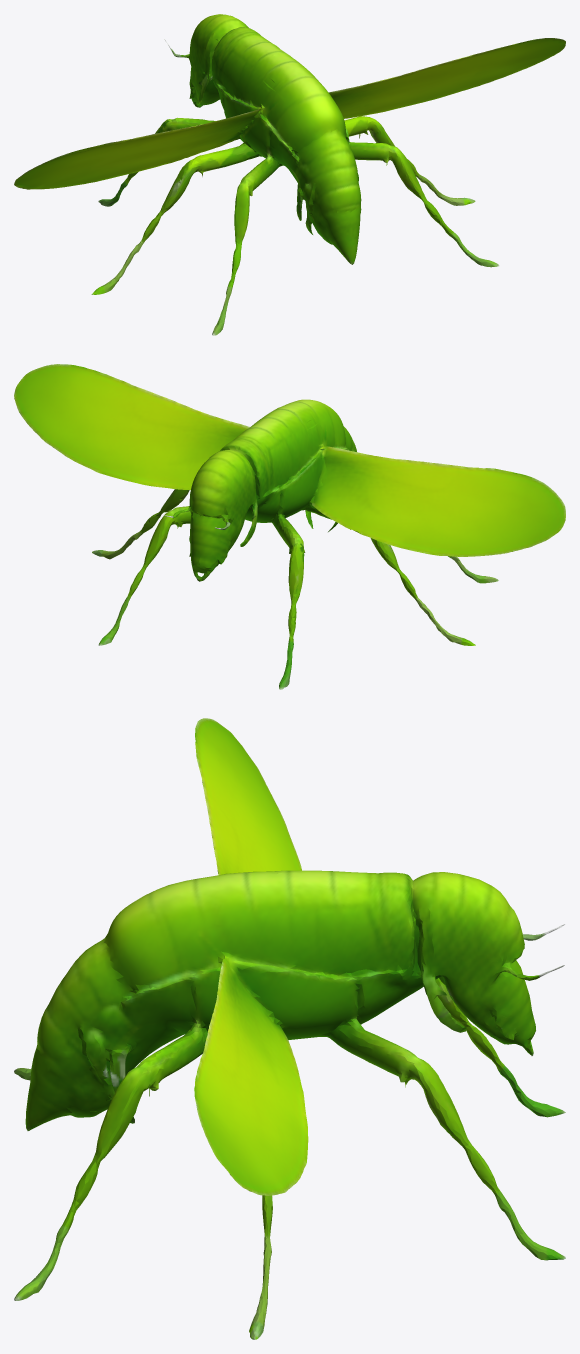
The model's file is mantis_tail.glb.
3 views of the same model, one above another, from view 1: azimuth 30°, elevation 25°; view 2: azimuth 150°, elevation 25°; view 3: azimuth 270°, elevation 25° (orthographic). The views are drawn at different scales.
Visible parts, largest first — view 1: mantis_tail; view 2: mantis_tail; view 3: mantis_tail.
Boxes of the visible parts, x1,y1,x2,y2 form: mantis_tail: [14, 14, 565, 335]; mantis_tail: [14, 364, 565, 689]; mantis_tail: [14, 718, 565, 1339].
Size of the model in its own units: 1.9 by 0.6216 by 1.
1 material, 1 textured.
